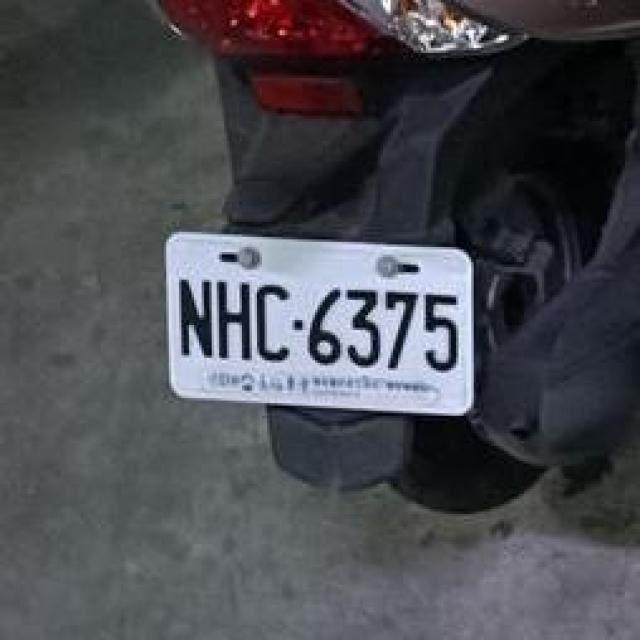W: (151, 220, 486, 423)
